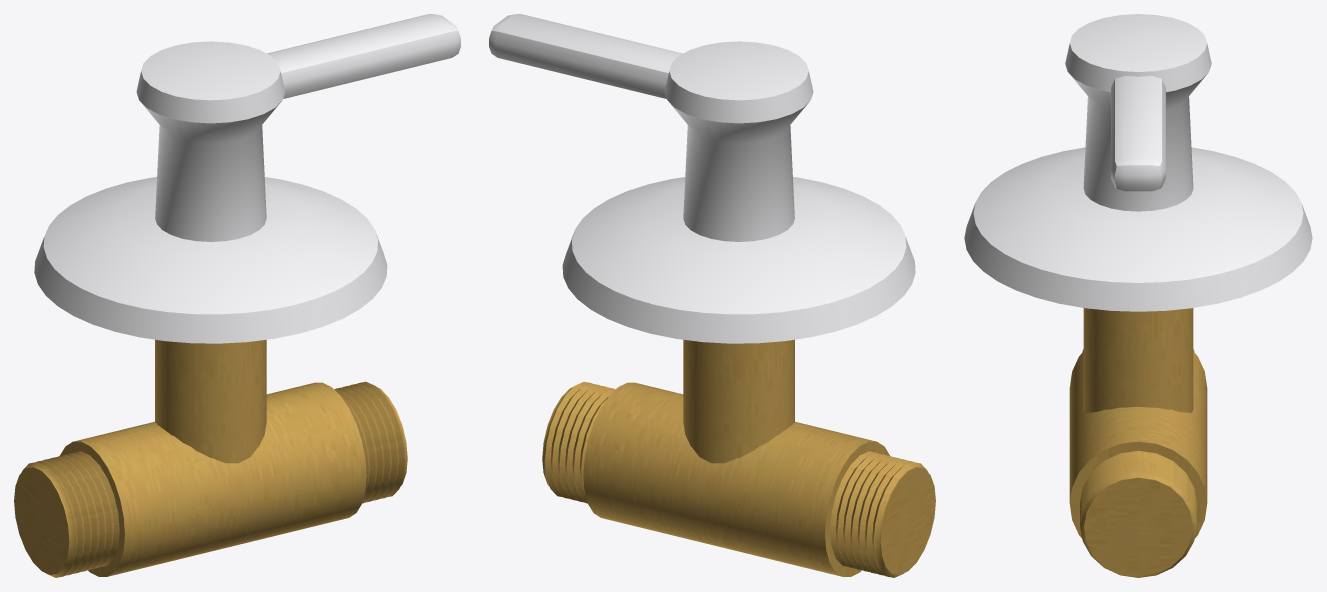
Rendered from HID-REG-003.glb.
3 renders of one model, left to right at view 1: azimuth 30°, elevation 25°; view 2: azimuth 150°, elevation 25°; view 3: azimuth 270°, elevation 25°, orthographic.
Visible parts, largest first — view 1: HID-REG-003_canopla, HID-REG-003_corpo, HID-REG-003_manopla, HID-REG-003_castelo, HID-REG-003_r1, HID-REG-003_alavanca, HID-REG-003_r2; view 2: HID-REG-003_canopla, HID-REG-003_corpo, HID-REG-003_manopla, HID-REG-003_castelo, HID-REG-003_r1, HID-REG-003_alavanca, HID-REG-003_r2; view 3: HID-REG-003_canopla, HID-REG-003_manopla, HID-REG-003_r2, HID-REG-003_castelo, HID-REG-003_corpo, HID-REG-003_alavanca.
Part boxes in pixels (left/top/right/bottom): HID-REG-003_canopla: left=34, top=177, right=387, bottom=343; HID-REG-003_corpo: left=60, top=382, right=366, bottom=576; HID-REG-003_manopla: left=136, top=41, right=285, bottom=241; HID-REG-003_castelo: left=155, top=339, right=266, bottom=463; HID-REG-003_r1: left=14, top=451, right=119, bottom=577; HID-REG-003_alavanca: left=267, top=14, right=460, bottom=98; HID-REG-003_r2: left=334, top=381, right=407, bottom=503; HID-REG-003_canopla: left=562, top=177, right=915, bottom=343; HID-REG-003_corpo: left=583, top=382, right=889, bottom=576; HID-REG-003_manopla: left=664, top=41, right=813, bottom=241; HID-REG-003_castelo: left=683, top=339, right=794, bottom=463; HID-REG-003_r1: left=830, top=451, right=935, bottom=577; HID-REG-003_alavanca: left=489, top=14, right=682, bottom=98; HID-REG-003_r2: left=542, top=381, right=615, bottom=503; HID-REG-003_canopla: left=964, top=147, right=1312, bottom=311; HID-REG-003_manopla: left=1065, top=14, right=1211, bottom=211; HID-REG-003_r2: left=1080, top=450, right=1196, bottom=577; HID-REG-003_castelo: left=1083, top=308, right=1193, bottom=412; HID-REG-003_corpo: left=1069, top=351, right=1207, bottom=538; HID-REG-003_alavanca: left=1111, top=76, right=1165, bottom=191.
Size of the model in its own units: 0.102 by 0.114 by 0.076.
Materials: 2 (1 with a texture image).
